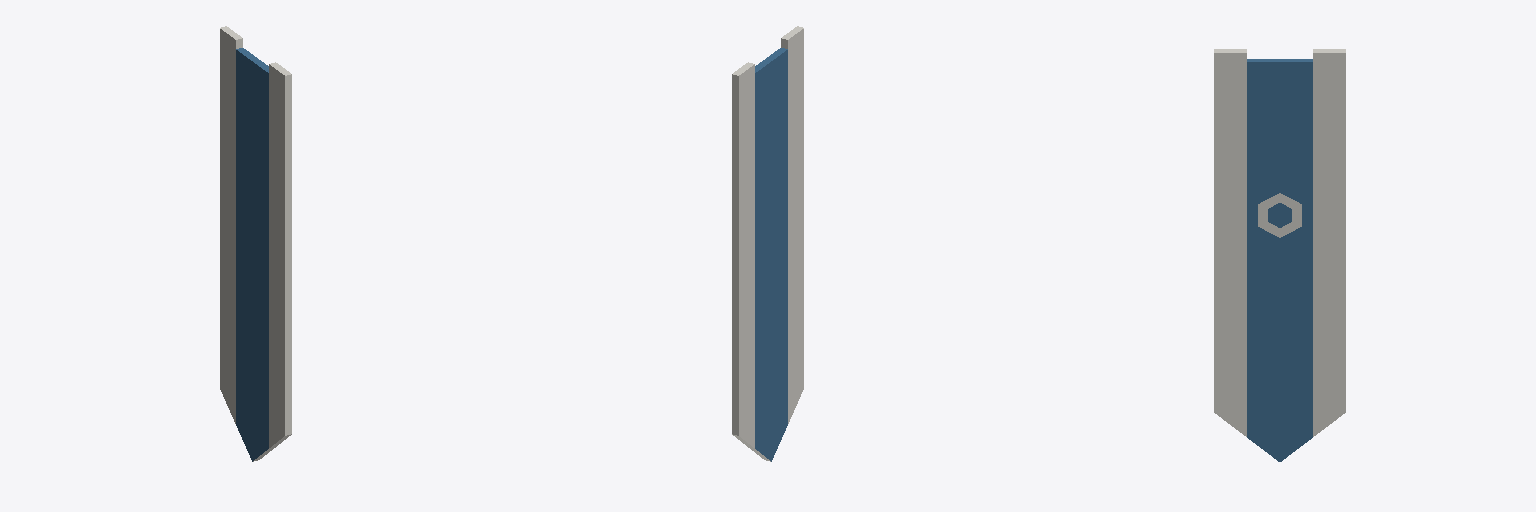
File: flagBannerLong.obj
3 views of the same model, side by side, from view 1: azimuth 30°, elevation 25°; view 2: azimuth 150°, elevation 25°; view 3: azimuth 270°, elevation 25° (orthographic).
Visible parts, largest first — view 1: flagBannerLong; view 2: flagBannerLong; view 3: flagBannerLong.
Part boxes in pixels (x1,y1,x2,y2): flagBannerLong: (220, 26, 291, 461); flagBannerLong: (732, 26, 803, 461); flagBannerLong: (1214, 49, 1345, 461).
Bounding box in the file's own units: 0.4 × 21.7 × 6.3.